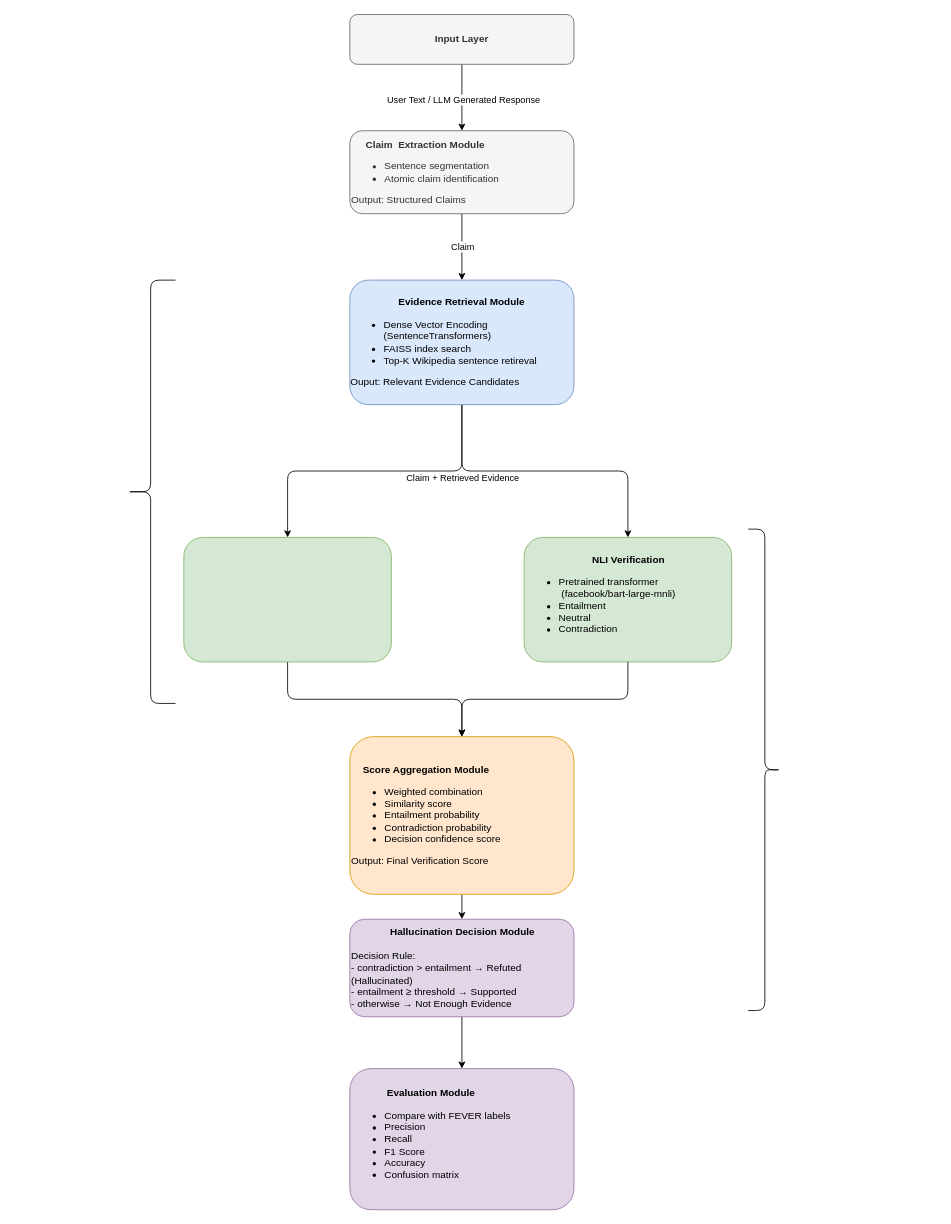
This 951x1224 diagram has some shape labels left out. The box of each missing label's shape, as (x1, y1, x2, y2) in pixels:
Inference-Based Verification (NLI+Aggregation+Decision): (747, 528, 781, 1011)
Retrieval-Based Verification (Evidence+Similarity): (125, 279, 176, 703)
Semantic Similarity Cosine similarity Relevance score: (183, 537, 391, 662)
